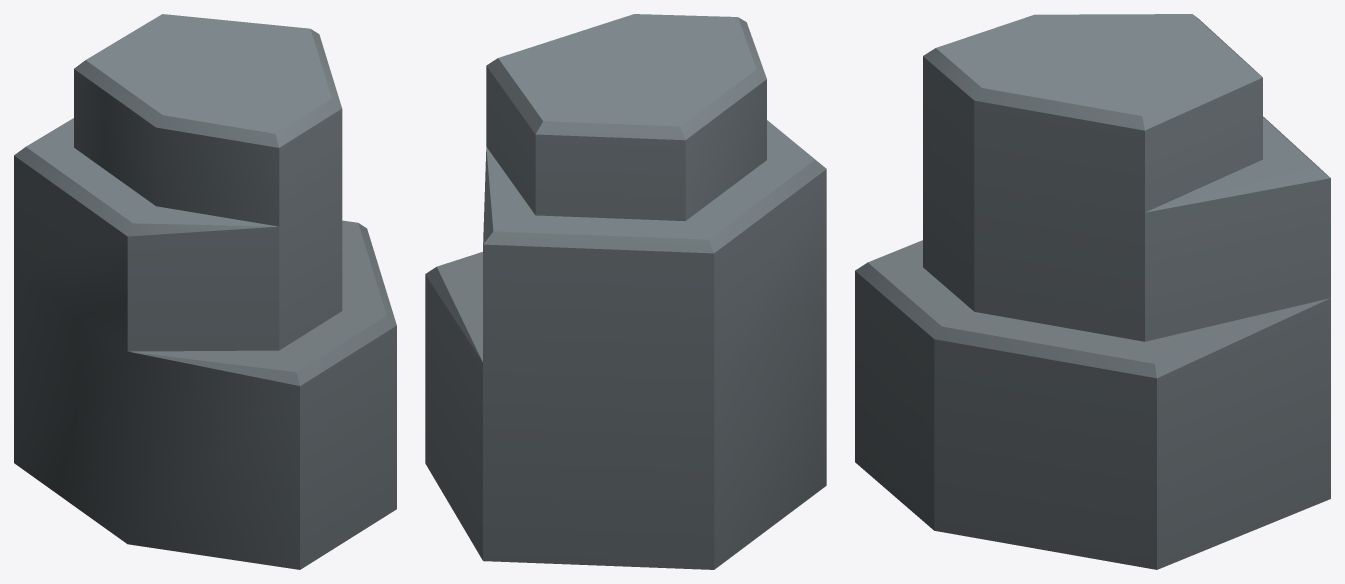
Rendered from Rock_1_D_Color1.glb.
3 views of the same model, side by side, from view 1: azimuth 30°, elevation 25°; view 2: azimuth 150°, elevation 25°; view 3: azimuth 270°, elevation 25° (orthographic). The views are drawn at different scales.
Parts seen in each view (by area): view 1: Rock_1_D_Color1; view 2: Rock_1_D_Color1; view 3: Rock_1_D_Color1.
Part boxes in pixels (x1,y1,x2,y2): Rock_1_D_Color1: (14,14,396,569); Rock_1_D_Color1: (425,14,826,569); Rock_1_D_Color1: (855,14,1330,569).
Size of the model in its own units: 0.9271 by 1.13 by 1.16.
1 material, 1 textured.
